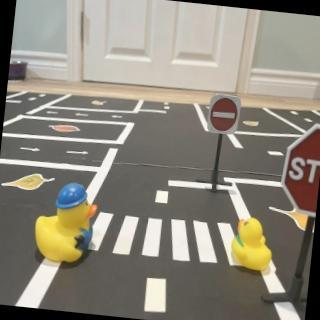duck_regular: (229, 217, 276, 276)
duck_specialty: (32, 181, 101, 269)
road_crosswalk: (88, 205, 254, 271)
road_oneway: (65, 148, 90, 159), (19, 144, 42, 155), (73, 111, 92, 118), (45, 109, 61, 117), (110, 113, 124, 121)
sign_noentry: (206, 94, 243, 139)
sign_stop: (278, 123, 320, 217)
